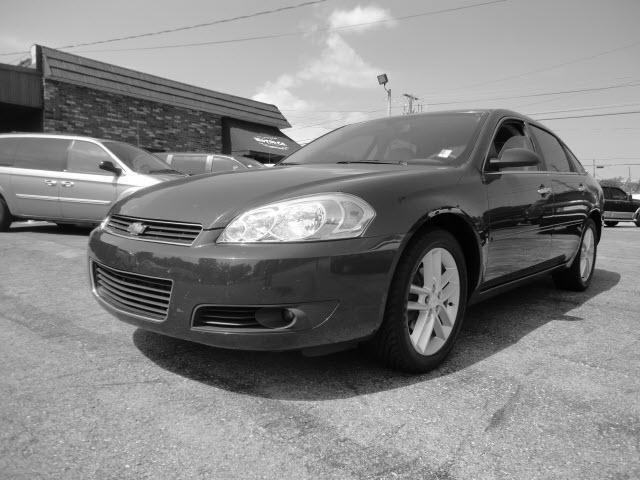car: (85, 107, 609, 381)
